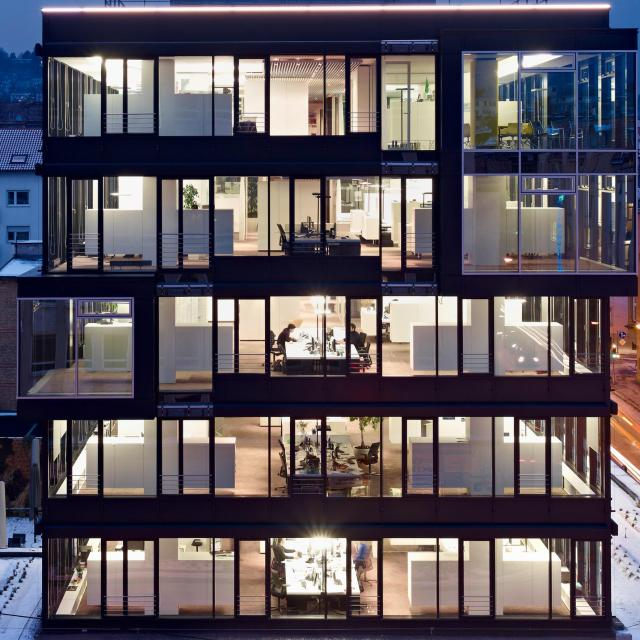wall: (0, 0, 640, 639)
windows: (51, 537, 608, 621), (50, 417, 606, 499), (158, 296, 599, 395), (45, 51, 437, 149), (47, 174, 433, 272), (460, 49, 639, 151), (465, 174, 640, 274), (18, 298, 134, 399)
